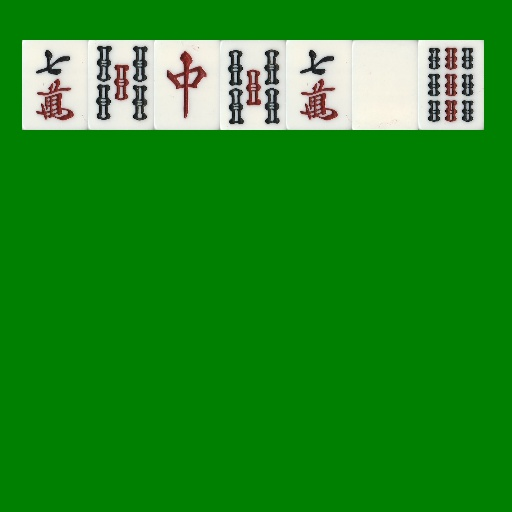5s: (88, 40, 154, 130), (220, 40, 286, 130)
7m: (22, 40, 88, 130), (286, 40, 352, 130)
9s: (418, 40, 484, 130)
tyun: (154, 40, 220, 130)
white: (352, 40, 418, 130)
